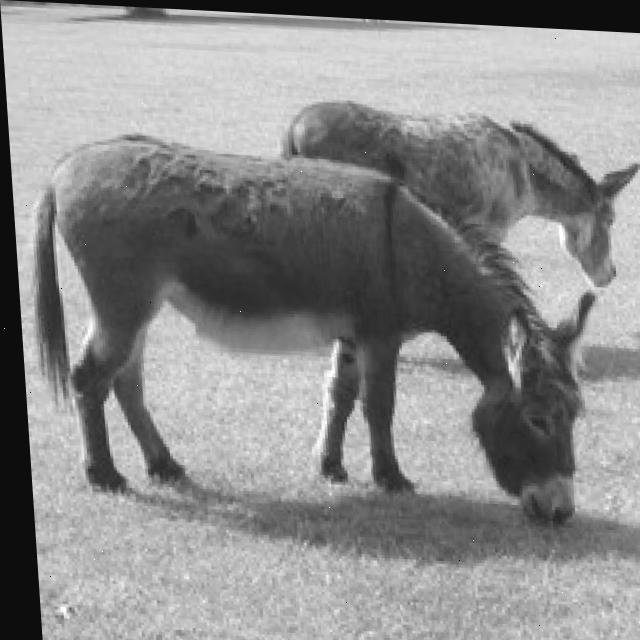Donkey: (20, 124, 611, 530), (274, 94, 640, 293)
